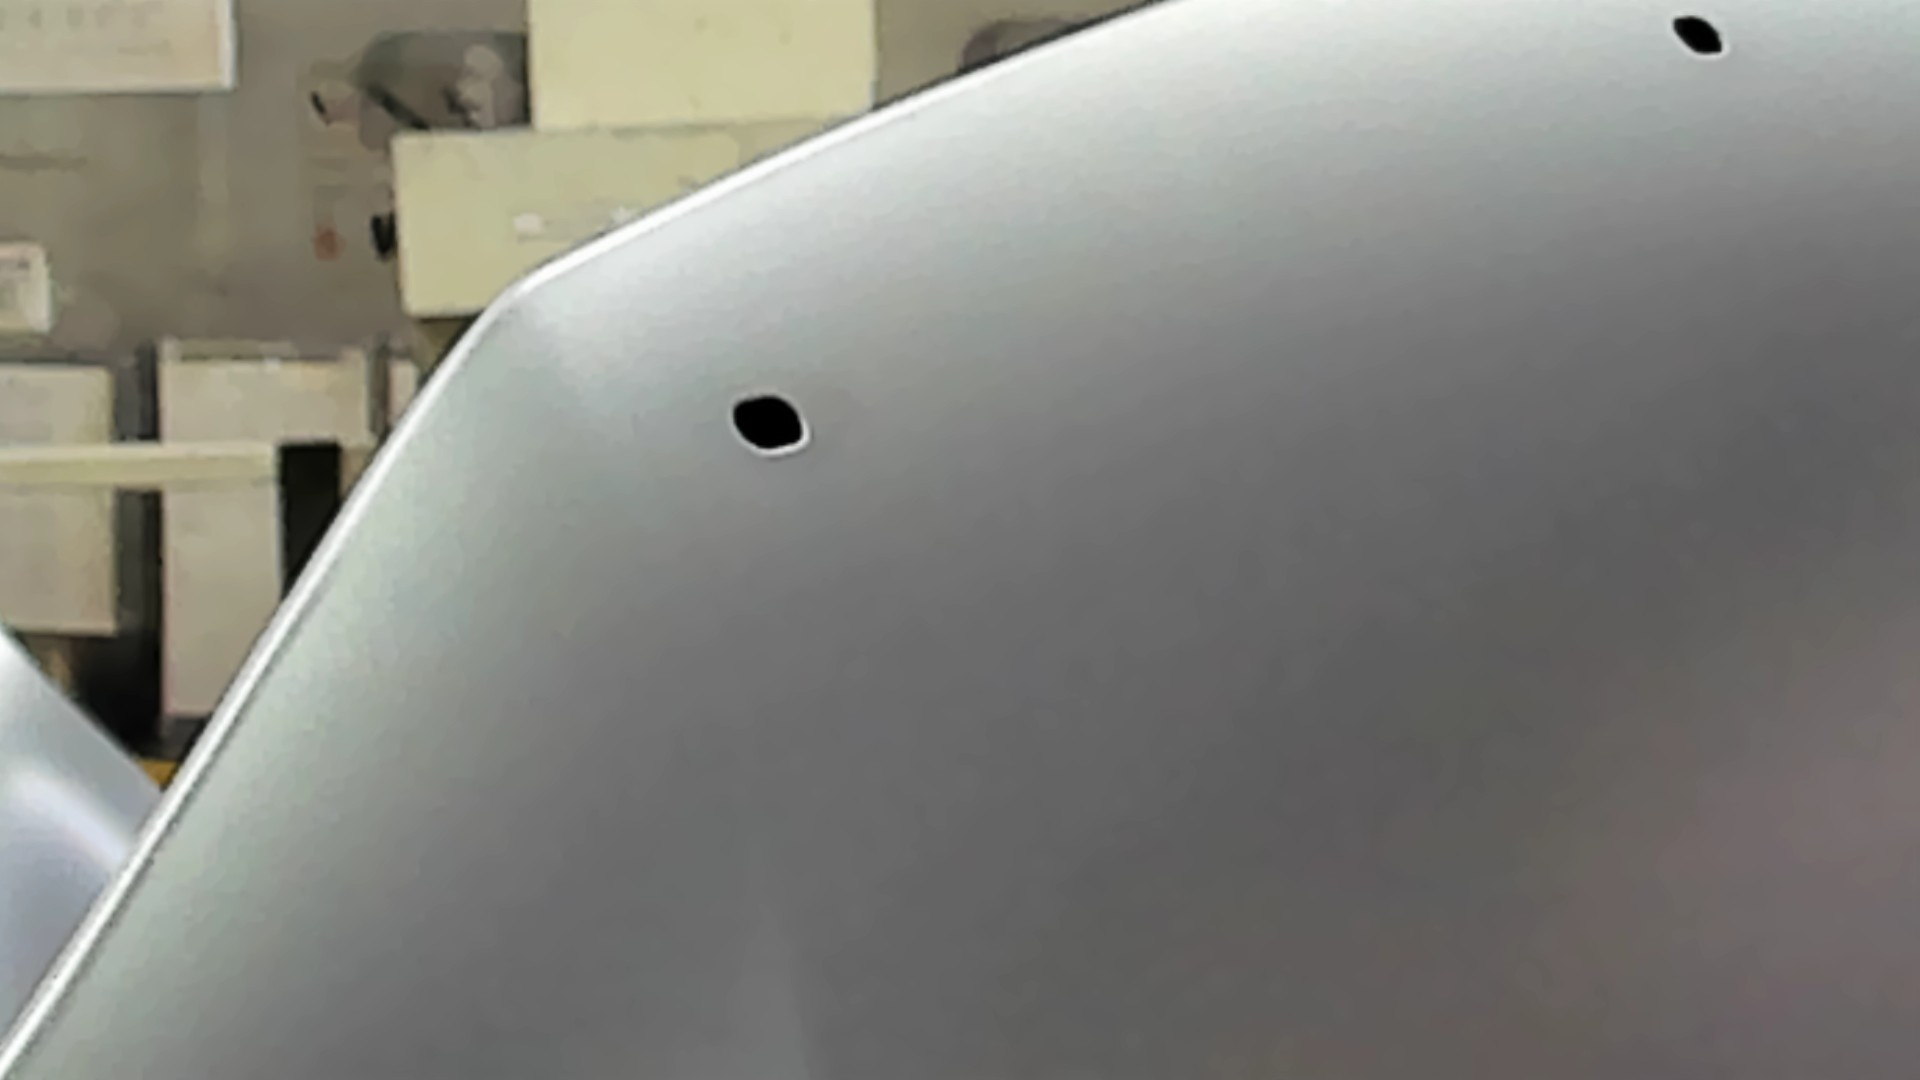amorfo: (725, 386, 818, 464), (1664, 12, 1731, 65)
capo: (897, 138, 1920, 1080)
